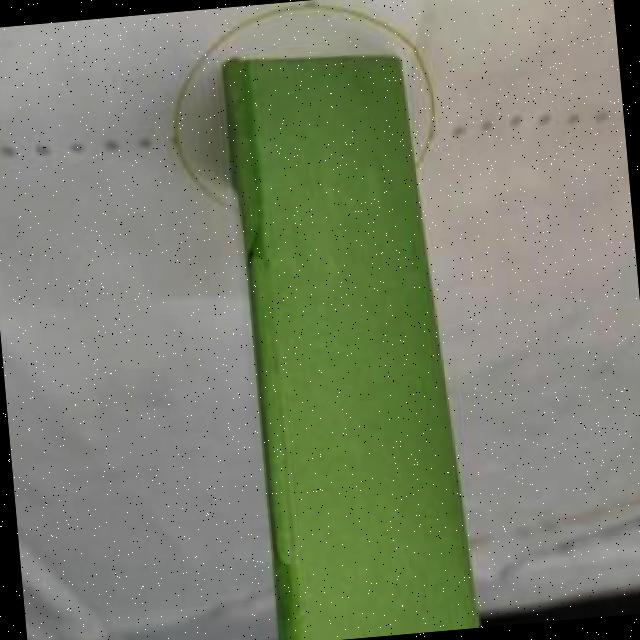greenbox: (223, 41, 481, 640)
